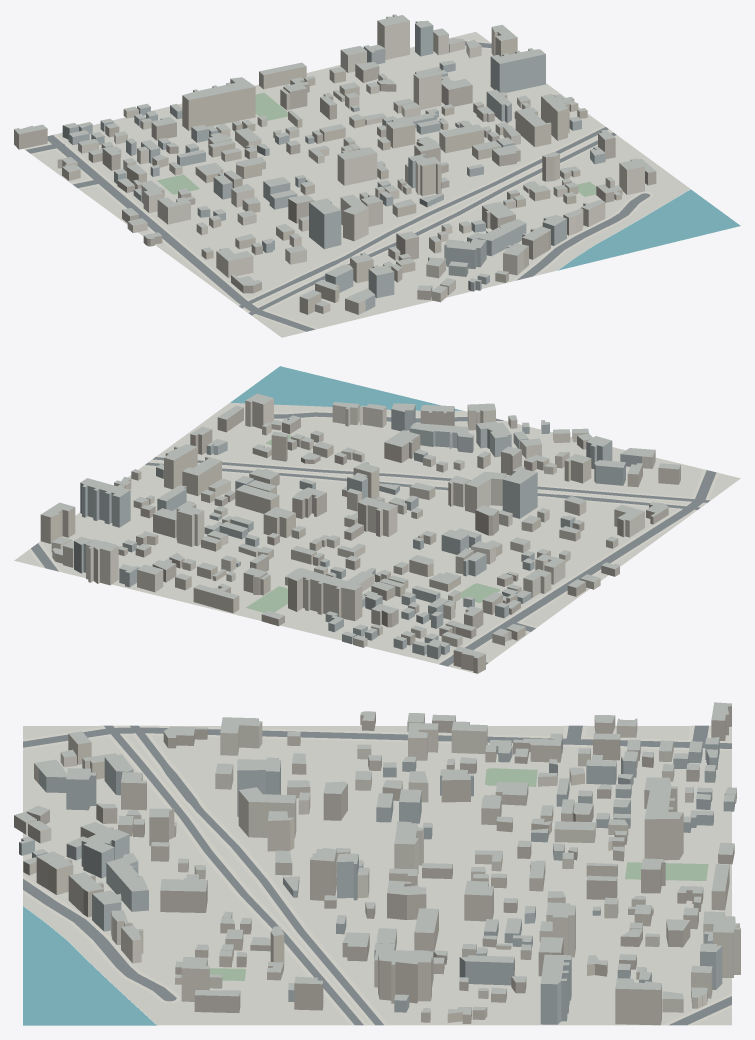
3 renders of one model, top to bottom at view 1: azimuth 30°, elevation 25°; view 2: azimuth 150°, elevation 25°; view 3: azimuth 270°, elevation 25°, orthographic. The views are drawn at different scales.
Visible parts, largest first — view 1: city; view 2: city; view 3: city.
Part boxes in pixels (x1,y1,x2,y2): city: (14,14,740,337); city: (14,366,740,673); city: (14,702,740,1025).
Size of the model in its own units: 508 by 36.38 by 513.
